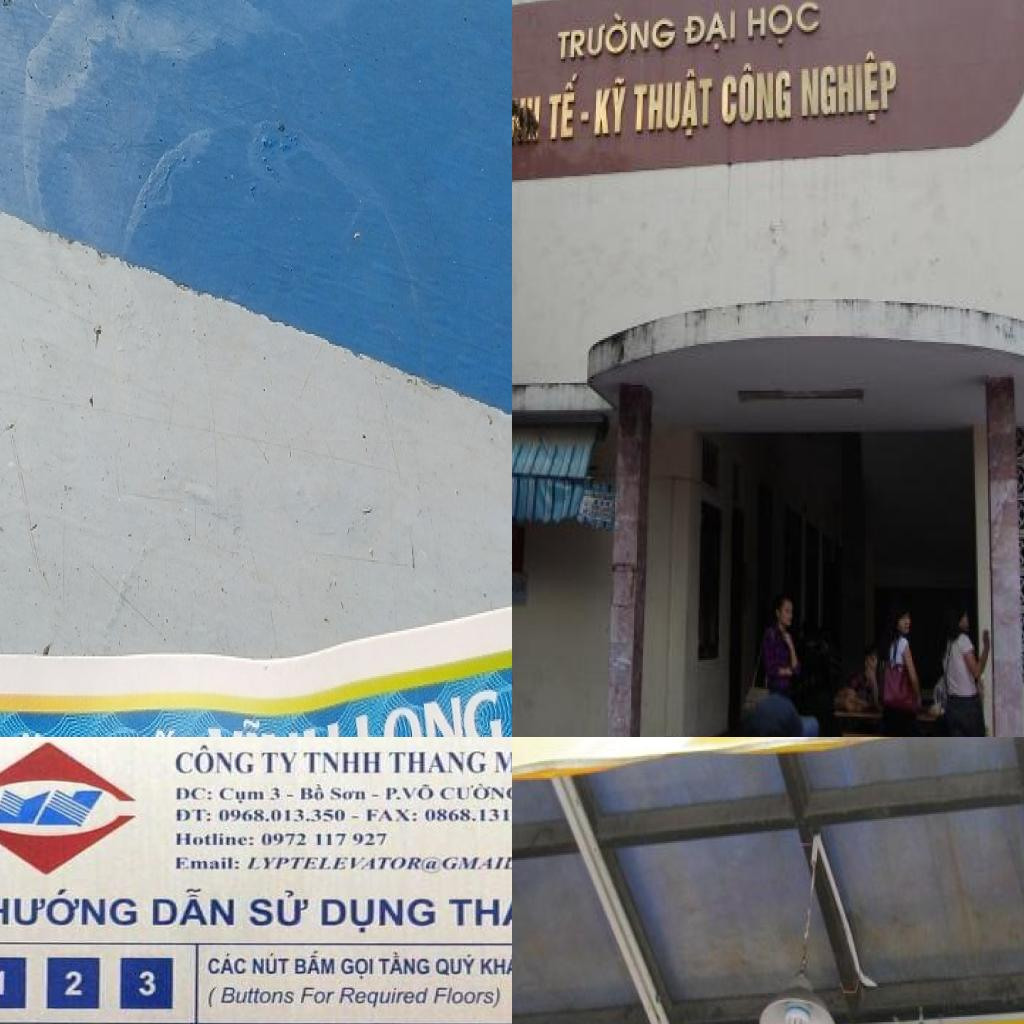text: (349, 680, 505, 737), (798, 48, 899, 132), (555, 6, 678, 67), (632, 65, 718, 143), (0, 885, 143, 929), (245, 853, 512, 874), (316, 893, 440, 937), (720, 61, 794, 130), (744, 0, 823, 53), (206, 707, 344, 737), (546, 69, 596, 145), (148, 887, 242, 927), (169, 742, 257, 780), (682, 6, 740, 56), (246, 888, 315, 930), (389, 749, 487, 777), (334, 984, 433, 1011), (260, 829, 392, 849), (444, 893, 512, 930), (593, 75, 631, 139), (428, 983, 512, 1011), (302, 750, 385, 776), (217, 808, 348, 824), (512, 94, 545, 150), (218, 982, 296, 1005), (439, 780, 512, 802), (423, 806, 512, 823), (376, 950, 432, 977), (173, 831, 255, 848), (291, 949, 338, 976), (173, 854, 243, 872), (255, 750, 301, 776), (218, 784, 268, 807), (206, 950, 250, 976), (250, 951, 294, 977), (365, 806, 423, 824), (435, 953, 477, 977), (338, 955, 376, 981), (300, 985, 340, 1006), (480, 951, 512, 976), (174, 784, 214, 803), (173, 806, 214, 824), (491, 741, 512, 776), (60, 971, 88, 997), (136, 968, 159, 998), (402, 783, 438, 802), (328, 785, 368, 802), (298, 781, 327, 804), (0, 967, 15, 1001), (204, 984, 222, 1009), (385, 782, 403, 802), (268, 783, 282, 804), (348, 815, 364, 823), (284, 792, 297, 801), (369, 792, 382, 799)
